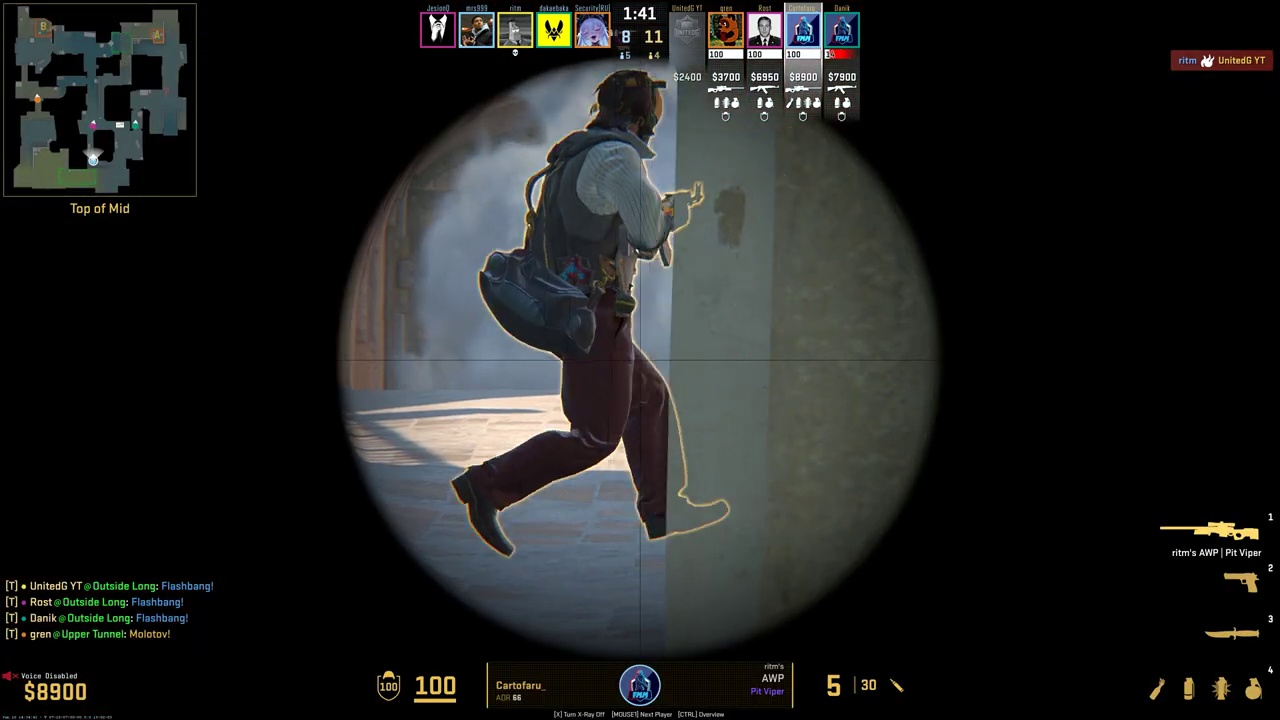Terrorist: (494, 73, 678, 540)
